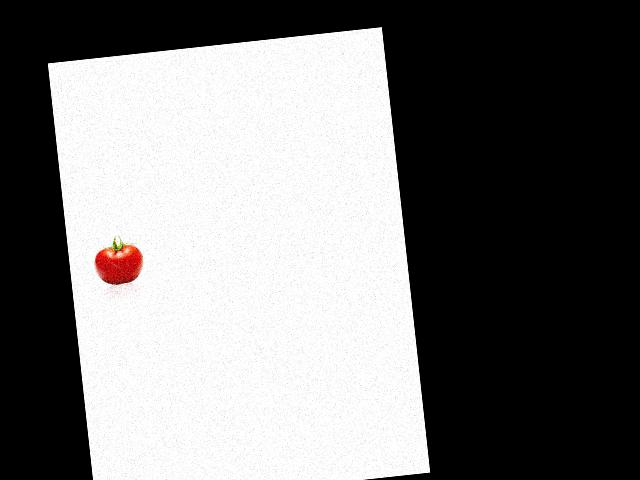tomato: (92, 243, 145, 286)
